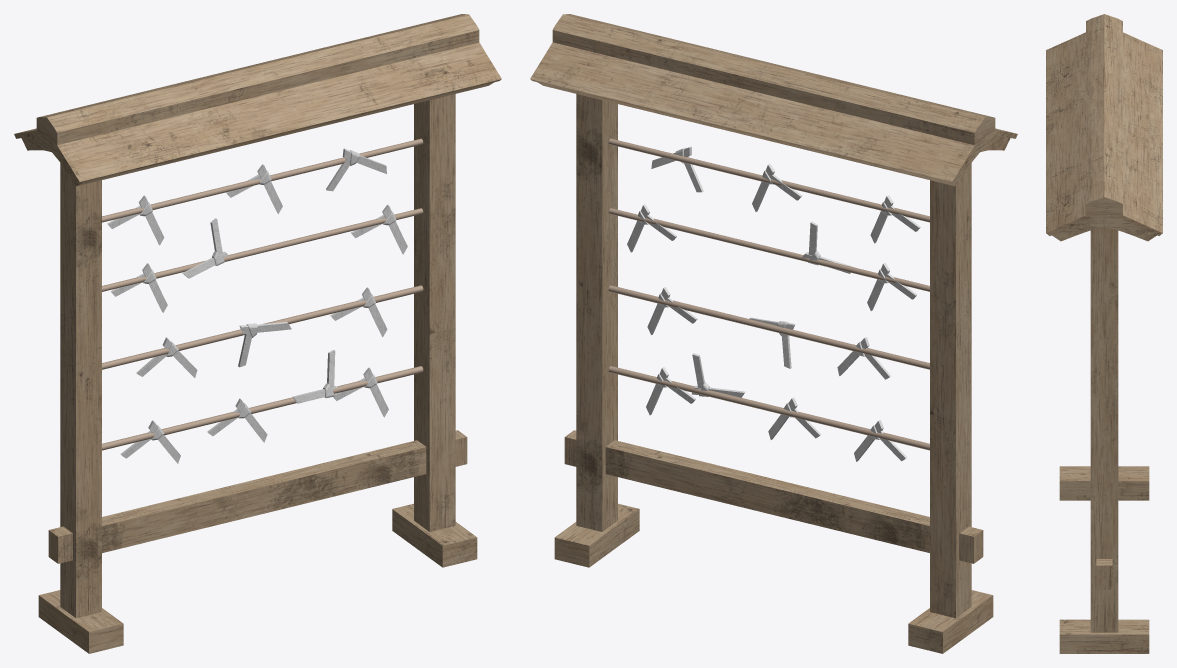
The model's file is omikuzi_musubi.fbx.
The picture shows the model from 3 angles, left to right: view 1: azimuth 30°, elevation 25°; view 2: azimuth 150°, elevation 25°; view 3: azimuth 270°, elevation 25°; orthographic projection. The views are drawn at different scales.
Visible parts, largest first — view 1: omikuzi_main, pCube12, pCube2, pCube21, pCube17; view 2: omikuzi_main; view 3: omikuzi_main.
Boxes of the visible parts, bbox=[...] form: omikuzi_main: bbox=[14, 14, 501, 653]; pCube12: bbox=[238, 321, 291, 367]; pCube2: bbox=[326, 148, 386, 191]; pCube21: bbox=[182, 218, 228, 278]; pCube17: bbox=[292, 350, 340, 403]; omikuzi_main: bbox=[530, 14, 1017, 653]; omikuzi_main: bbox=[1046, 14, 1162, 653].
Size of the model in its own units: 148 by 175 by 39.97.
